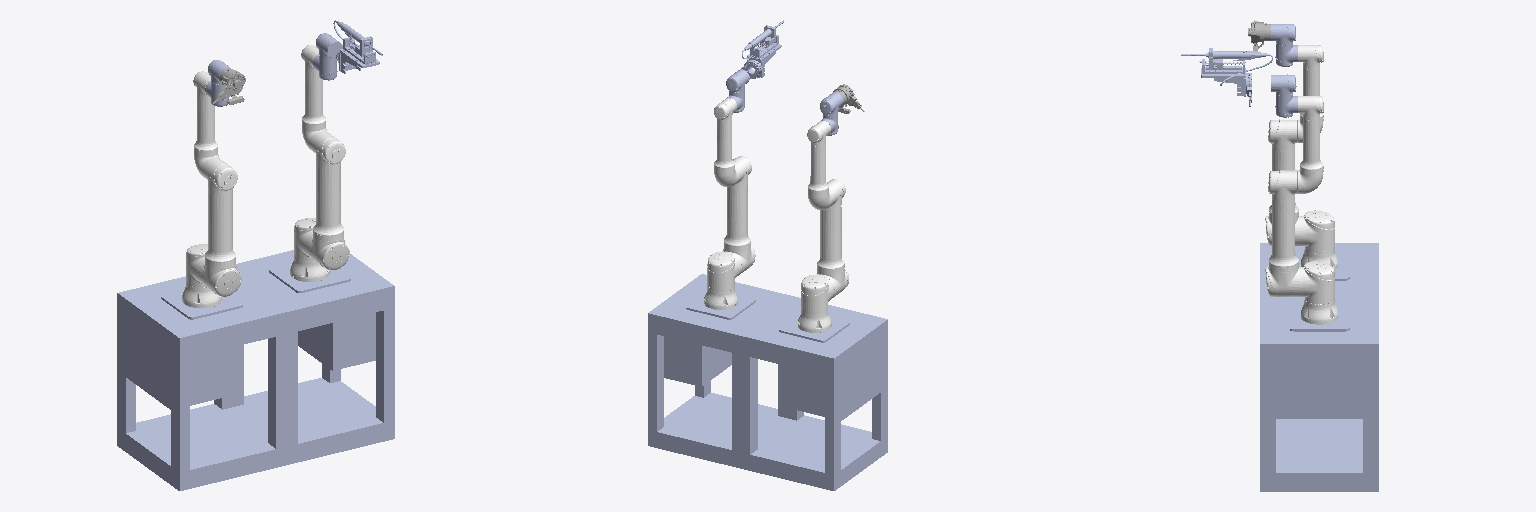
robot.urdf — dual_arm_with_electric:
<?xml version="1.0" encoding="utf-8"?>
<robot
  name="dual_arm_with_electric">
  <link
    name="base_link">
    <inertial>
      <origin
        xyz="-3.8858E-16 6.132E-05 0.48724"
        rpy="0 0 0" />
      <mass
        value="275.37" />
      <inertia
        ixx="29.428"
        ixy="-6.7312E-16"
        ixz="-2.6439E-15"
        iyy="30.097"
        iyz="-4.2543E-16"
        izz="15.99" />
    </inertial>
    <visual>
      <origin
        xyz="0 0 0"
        rpy="0 0 0" />
      <geometry>
        <mesh
          filename="package://dual_arm_with_electric/meshes/base_link.STL" />
      </geometry>
      <material
        name="">
        <color
          rgba="0.79216 0.81961 0.93333 1" />
      </material>
    </visual>
    <collision>
      <origin
        xyz="0 0 0"
        rpy="0 0 0" />
      <geometry>
        <mesh
          filename="package://dual_arm_with_electric/meshes/base_link.STL" />
      </geometry>
    </collision>
  </link>
  <link
    name="R_R00_Link">
    <inertial>
      <origin
        xyz="5.7685E-05 -0.00010433 0.065475"
        rpy="0 0 0" />
      <mass
        value="0.94896" />
      <inertia
        ixx="0.0029607"
        ixy="-1.0113E-06"
        ixz="5.2729E-06"
        iyy="0.0026222"
        iyz="-2.8851E-06"
        izz="0.0039906" />
    </inertial>
    <visual>
      <origin
        xyz="0 0 0"
        rpy="0 0 0" />
      <geometry>
        <mesh
          filename="package://dual_arm_with_electric/meshes/R_R00_Link.STL" />
      </geometry>
      <material
        name="">
        <color
          rgba="1 1 1 1" />
      </material>
    </visual>
    <collision>
      <origin
        xyz="0 0 0"
        rpy="0 0 0" />
      <geometry>
        <mesh
          filename="package://dual_arm_with_electric/meshes/R_R00_Link.STL" />
      </geometry>
    </collision>
  </link>
  <joint
    name="R_R00_Joint"
    type="fixed">
    <origin
      xyz="0.3015 0.001 0.8295"
      rpy="0 0 0" />
    <parent
      link="base_link" />
    <child
      link="R_R00_Link" />
    <axis
      xyz="0 0 0" />
  </joint>
  <link
    name="R_R01_Link">
    <inertial>
      <origin
        xyz="8.7738E-06 -0.010199 0.087734"
        rpy="0 0 0" />
      <mass
        value="3.6238" />
      <inertia
        ixx="0.011748"
        ixy="5.2402E-08"
        ixz="-5.1621E-07"
        iyy="0.010978"
        iyz="0.0014505"
        izz="0.011872" />
    </inertial>
    <visual>
      <origin
        xyz="0 0 0"
        rpy="0 0 0" />
      <geometry>
        <mesh
          filename="package://dual_arm_with_electric/meshes/R_R01_Link.STL" />
      </geometry>
      <material
        name="">
        <color
          rgba="1 1 1 1" />
      </material>
    </visual>
    <collision>
      <origin
        xyz="0 0 0"
        rpy="0 0 0" />
      <geometry>
        <mesh
          filename="package://dual_arm_with_electric/meshes/R_R01_Link.STL" />
      </geometry>
    </collision>
  </link>
  <joint
    name="R_R01_Joint"
    type="revolute">
    <origin
      xyz="0 0 0.101"
      rpy="0 0 0" />
    <parent
      link="R_R00_Link" />
    <child
      link="R_R01_Link" />
    <axis
      xyz="0 0 1" />
    <limit
      lower="-6.2832"
      upper="6.2832"
      effort="100.0"
      velocity="2.0" />
  </joint>
  <link
    name="R_R02_Link">
    <inertial>
      <origin
        xyz="-3.3956E-06 -0.090301 0.22698"
        rpy="0 0 0" />
      <mass
        value="10.025" />
      <inertia
        ixx="0.082438"
        ixy="-6.6884E-07"
        ixz="-6.9209E-08"
        iyy="0.082584"
        iyz="0.0010302"
        izz="0.023126" />
    </inertial>
    <visual>
      <origin
        xyz="0 0 0"
        rpy="0 0 0" />
      <geometry>
        <mesh
          filename="package://dual_arm_with_electric/meshes/R_R02_Link.STL" />
      </geometry>
      <material
        name="">
        <color
          rgba="1 1 1 1" />
      </material>
    </visual>
    <collision>
      <origin
        xyz="0 0 0"
        rpy="0 0 0" />
      <geometry>
        <mesh
          filename="package://dual_arm_with_electric/meshes/R_R02_Link.STL" />
      </geometry>
    </collision>
  </link>
  <joint
    name="R_R02_Joint"
    type="revolute">
    <origin
      xyz="0 -0.089 0.0915"
      rpy="0 0 0" />
    <parent
      link="R_R01_Link" />
    <child
      link="R_R02_Link" />
    <axis
      xyz="0 -1 0" />
    <limit
      lower="-6.2832"
      upper="6.2832"
      effort="100.0"
      velocity="2.0" />
  </joint>
  <link
    name="R_R03_Link">
    <inertial>
      <origin
        xyz="3.7353E-06 0.064682 0.19279"
        rpy="0 0 0" />
      <mass
        value="4.1459" />
      <inertia
        ixx="0.021426"
        ixy="-2.9841E-07"
        ixz="9.9667E-08"
        iyy="0.021"
        iyz="-0.00034616"
        izz="0.0057151" />
    </inertial>
    <visual>
      <origin
        xyz="0 0 0"
        rpy="0 0 0" />
      <geometry>
        <mesh
          filename="package://dual_arm_with_electric/meshes/R_R03_Link.STL" />
      </geometry>
      <material
        name="">
        <color
          rgba="1 1 1 1" />
      </material>
    </visual>
    <collision>
      <origin
        xyz="0 0 0"
        rpy="0 0 0" />
      <geometry>
        <mesh
          filename="package://dual_arm_with_electric/meshes/R_R03_Link.STL" />
      </geometry>
    </collision>
  </link>
  <joint
    name="R_R03_Joint"
    type="revolute">
    <origin
      xyz="0 -0.0209 0.552"
      rpy="0 0 0" />
    <parent
      link="R_R02_Link" />
    <child
      link="R_R03_Link" />
    <axis
      xyz="0 1 0" />
    <limit
      lower="-6.2832"
      upper="6.2832"
      effort="100.0"
      velocity="2.0" />
  </joint>
  <link
    name="R_R04_Link">
    <inertial>
      <origin
        xyz="-2.9867E-06 -0.059008 0.0041121"
        rpy="0 0 0" />
      <mass
        value="0.94334" />
      <inertia
        ixx="0.0014296"
        ixy="3.0514E-08"
        ixz="-4.9833E-08"
        iyy="0.0011354"
        iyz="0.00019671"
        izz="0.0012242" />
    </inertial>
    <visual>
      <origin
        xyz="0 0 0"
        rpy="0 0 0" />
      <geometry>
        <mesh
          filename="package://dual_arm_with_electric/meshes/R_R04_Link.STL" />
      </geometry>
      <material
        name="">
        <color
          rgba="0.79216 0.81961 0.93333 1" />
      </material>
    </visual>
    <collision>
      <origin
        xyz="0 0 0"
        rpy="0 0 0" />
      <geometry>
        <mesh
          filename="package://dual_arm_with_electric/meshes/R_R04_Link.STL" />
      </geometry>
    </collision>
  </link>
  <joint
    name="R_R04_Joint"
    type="revolute">
    <origin
      xyz="0 0.0031 0.43"
      rpy="0 0 0" />
    <parent
      link="R_R03_Link" />
    <child
      link="R_R04_Link" />
    <axis
      xyz="0 1 0" />
    <limit
      lower="-6.2832"
      upper="6.2832"
      effort="100.0"
      velocity="2.0" />
  </joint>
  <link
    name="R_R05_Link">
    <inertial>
      <origin
        xyz="4.8544E-06 -0.0047046 0.046075"
        rpy="0 0 0" />
      <mass
        value="0.82449" />
      <inertia
        ixx="0.0010544"
        ixy="-7.6266E-08"
        ixz="3.7967E-08"
        iyy="0.00086962"
        iyz="0.00011863"
        izz="0.0010023" />
    </inertial>
    <visual>
      <origin
        xyz="0 0 0"
        rpy="0 0 0" />
      <geometry>
        <mesh
          filename="package://dual_arm_with_electric/meshes/R_R05_Link.STL" />
      </geometry>
      <material
        name="">
        <color
          rgba="0.79216 0.81961 0.93333 1" />
      </material>
    </visual>
    <collision>
      <origin
        xyz="0 0 0"
        rpy="0 0 0" />
      <geometry>
        <mesh
          filename="package://dual_arm_with_electric/meshes/R_R05_Link.STL" />
      </geometry>
    </collision>
  </link>
  <joint
    name="R_R05_Joint"
    type="revolute">
    <origin
      xyz="0 -0.0707 0.0673"
      rpy="0 0 0" />
    <parent
      link="R_R04_Link" />
    <child
      link="R_R05_Link" />
    <axis
      xyz="0 0 -1" />
    <limit
      lower="-6.2832"
      upper="6.2832"
      effort="100.0"
      velocity="2.0" />
  </joint>
  <link
    name="R_R06_Link">
    <inertial>
      <origin
        xyz="-0.0002141 -0.061538 -0.026956"
        rpy="0 0 0" />
      <mass
        value="1.6652" />
      <inertia
        ixx="0.00080037"
        ixy="-2.9449E-06"
        ixz="2.3339E-06"
        iyy="0.0014906"
        iyz="-4.2122E-06"
        izz="0.00093729" />
    </inertial>
    <visual>
      <origin
        xyz="0 0 0"
        rpy="0 0 0" />
      <geometry>
        <mesh
          filename="package://dual_arm_with_electric/meshes/R_R06_Link.STL" />
      </geometry>
      <material
        name="">
        <color
          rgba="0.75294 0.75294 0.75294 1" />
      </material>
    </visual>
    <collision>
      <origin
        xyz="0 0 0"
        rpy="0 0 0" />
      <geometry>
        <mesh
          filename="package://dual_arm_with_electric/meshes/R_R06_Link.STL" />
      </geometry>
    </collision>
  </link>
  <joint
    name="R_R06_Joint"
    type="revolute">
    <origin
      xyz="0 -0.0673 0.0507"
      rpy="0 0 0" />
    <parent
      link="R_R05_Link" />
    <child
      link="R_R06_Link" />
    <axis
      xyz="0 1 0" />
    <limit
      lower="-6.2832"
      upper="6.2832"
      effort="100.0"
      velocity="2.0" />
  </joint>
  <link
    name="L_R00_Link">
    <inertial>
      <origin
        xyz="-5.7685E-05 0.00010433 0.065475"
        rpy="0 0 0" />
      <mass
        value="0.94896" />
      <inertia
        ixx="0.0029607"
        ixy="-1.0113E-06"
        ixz="-5.2729E-06"
        iyy="0.0026222"
        iyz="2.8851E-06"
        izz="0.0039906" />
    </inertial>
    <visual>
      <origin
        xyz="0 0 0"
        rpy="0 0 0" />
      <geometry>
        <mesh
          filename="package://dual_arm_with_electric/meshes/L_R00_Link.STL" />
      </geometry>
      <material
        name="">
        <color
          rgba="1 1 1 1" />
      </material>
    </visual>
    <collision>
      <origin
        xyz="0 0 0"
        rpy="0 0 0" />
      <geometry>
        <mesh
          filename="package://dual_arm_with_electric/meshes/L_R00_Link.STL" />
      </geometry>
    </collision>
  </link>
  <joint
    name="L_R00_Joint"
    type="fixed">
    <origin
      xyz="-0.3015 0.001 0.8295"
      rpy="0 0 0" />
    <parent
      link="base_link" />
    <child
      link="L_R00_Link" />
    <axis
      xyz="0 0 0" />
  </joint>
  <link
    name="L_R01_Link">
    <inertial>
      <origin
        xyz="8.7722E-06 -0.010199 0.087734"
        rpy="0 0 0" />
      <mass
        value="3.6238" />
      <inertia
        ixx="0.011748"
        ixy="5.2386E-08"
        ixz="-5.1621E-07"
        iyy="0.010978"
        iyz="0.0014505"
        izz="0.011872" />
    </inertial>
    <visual>
      <origin
        xyz="0 0 0"
        rpy="0 0 0" />
      <geometry>
        <mesh
          filename="package://dual_arm_with_electric/meshes/L_R01_Link.STL" />
      </geometry>
      <material
        name="">
        <color
          rgba="1 1 1 1" />
      </material>
    </visual>
    <collision>
      <origin
        xyz="0 0 0"
        rpy="0 0 0" />
      <geometry>
        <mesh
          filename="package://dual_arm_with_electric/meshes/L_R01_Link.STL" />
      </geometry>
    </collision>
  </link>
  <joint
    name="L_R01_Joint"
    type="revolute">
    <origin
      xyz="0 0 0.101"
      rpy="0 0 0" />
    <parent
      link="L_R00_Link" />
    <child
      link="L_R01_Link" />
    <axis
      xyz="0 0 1" />
    <limit
      lower="-6.2832"
      upper="6.2832"
      effort="100.0"
      velocity="2.0" />
  </joint>
  <link
    name="L_R02_Link">
    <inertial>
      <origin
        xyz="-3.3951E-06 -0.090301 0.22698"
        rpy="0 0 0" />
      <mass
        value="10.025" />
      <inertia
        ixx="0.082438"
        ixy="-6.6879E-07"
        ixz="-6.8997E-08"
        iyy="0.082584"
        iyz="0.0010302"
        izz="0.023126" />
    </inertial>
    <visual>
      <origin
        xyz="0 0 0"
        rpy="0 0 0" />
      <geometry>
        <mesh
          filename="package://dual_arm_with_electric/meshes/L_R02_Link.STL" />
      </geometry>
      <material
        name="">
        <color
          rgba="1 1 1 1" />
      </material>
    </visual>
    <collision>
      <origin
        xyz="0 0 0"
        rpy="0 0 0" />
      <geometry>
        <mesh
          filename="package://dual_arm_with_electric/meshes/L_R02_Link.STL" />
      </geometry>
    </collision>
  </link>
  <joint
    name="L_R02_Joint"
    type="revolute">
    <origin
      xyz="0 -0.089 0.0915"
      rpy="0 0 0" />
    <parent
      link="L_R01_Link" />
    <child
      link="L_R02_Link" />
    <axis
      xyz="0 -1 0" />
    <limit
      lower="-6.2832"
      upper="6.2832"
      effort="100.0"
      velocity="2.0" />
  </joint>
  <link
    name="L_R03_Link">
    <inertial>
      <origin
        xyz="3.7356E-06 0.064682 0.19279"
        rpy="0 0 0" />
      <mass
        value="4.1459" />
      <inertia
        ixx="0.021426"
        ixy="-2.9841E-07"
        ixz="9.9664E-08"
        iyy="0.021"
        iyz="-0.00034616"
        izz="0.0057151" />
    </inertial>
    <visual>
      <origin
        xyz="0 0 0"
        rpy="0 0 0" />
      <geometry>
        <mesh
          filename="package://dual_arm_with_electric/meshes/L_R03_Link.STL" />
      </geometry>
      <material
        name="">
        <color
          rgba="1 1 1 1" />
      </material>
    </visual>
    <collision>
      <origin
        xyz="0 0 0"
        rpy="0 0 0" />
      <geometry>
        <mesh
          filename="package://dual_arm_with_electric/meshes/L_R03_Link.STL" />
      </geometry>
    </collision>
  </link>
  <joint
    name="L_R03_Joint"
    type="revolute">
    <origin
      xyz="0 -0.0209 0.552"
      rpy="0 0 0" />
    <parent
      link="L_R02_Link" />
    <child
      link="L_R03_Link" />
    <axis
      xyz="0 1 0" />
    <limit
      lower="-6.2832"
      upper="6.2832"
      effort="100.0"
      velocity="2.0" />
  </joint>
  <link
    name="L_R04_Link">
    <inertial>
      <origin
        xyz="-2.9854E-06 -0.059008 0.0041121"
        rpy="0 0 0" />
      <mass
        value="0.94334" />
      <inertia
        ixx="0.0014296"
        ixy="3.0491E-08"
        ixz="-4.9808E-08"
        iyy="0.0011354"
        iyz="0.00019671"
        izz="0.0012242" />
    </inertial>
    <visual>
      <origin
        xyz="0 0 0"
        rpy="0 0 0" />
      <geometry>
        <mesh
          filename="package://dual_arm_with_electric/meshes/L_R04_Link.STL" />
      </geometry>
      <material
        name="">
        <color
          rgba="0.79216 0.81961 0.93333 1" />
      </material>
    </visual>
    <collision>
      <origin
        xyz="0 0 0"
        rpy="0 0 0" />
      <geometry>
        <mesh
          filename="package://dual_arm_with_electric/meshes/L_R04_Link.STL" />
      </geometry>
    </collision>
  </link>
  <joint
    name="L_R04_Joint"
    type="revolute">
    <origin
      xyz="0 0.0031 0.43"
      rpy="0 0 0" />
    <parent
      link="L_R03_Link" />
    <child
      link="L_R04_Link" />
    <axis
      xyz="0 1 0" />
    <limit
      lower="-6.2832"
      upper="6.2832"
      effort="100.0"
      velocity="2.0" />
  </joint>
  <link
    name="L_R05_Link">
    <inertial>
      <origin
        xyz="-5.4904E-05 -0.0047043 0.046075"
        rpy="0 0 0" />
      <mass
        value="0.82449" />
      <inertia
        ixx="0.0010543"
        ixy="-2.4228E-06"
        ixz="1.5451E-06"
        iyy="0.00086965"
        iyz="0.00011862"
        izz="0.0010023" />
    </inertial>
    <visual>
      <origin
        xyz="0 0 0"
        rpy="0 0 0" />
      <geometry>
        <mesh
          filename="package://dual_arm_with_electric/meshes/L_R05_Link.STL" />
      </geometry>
      <material
        name="">
        <color
          rgba="0.79216 0.81961 0.93333 1" />
      </material>
    </visual>
    <collision>
      <origin
        xyz="0 0 0"
        rpy="0 0 0" />
      <geometry>
        <mesh
          filename="package://dual_arm_with_electric/meshes/L_R05_Link.STL" />
      </geometry>
    </collision>
  </link>
  <joint
    name="L_R05_Joint"
    type="revolute">
    <origin
      xyz="0 -0.0707 0.0673"
      rpy="0 0 0" />
    <parent
      link="L_R04_Link" />
    <child
      link="L_R05_Link" />
    <axis
      xyz="0 0 -1" />
    <limit
      lower="-6.2832"
      upper="6.2832"
      effort="100.0"
      velocity="2.0" />
  </joint>
  <link
    name="L_R06_Link">
    <inertial>
      <origin
        xyz="-0.002204 -0.061333 -0.025591"
        rpy="0 0 0" />
      <mass
        value="1.6639" />
      <inertia
        ixx="0.00078855"
        ixy="6.8494E-06"
        ixz="-1.8668E-06"
        iyy="0.0014753"
        iyz="-4.5567E-06"
        izz="0.00093201" />
    </inertial>
    <visual>
      <origin
        xyz="0 0 0"
        rpy="0 0 0" />
      <geometry>
        <mesh
          filename="package://dual_arm_with_electric/meshes/L_R06_Link.STL" />
      </geometry>
      <material
        name="">
        <color
          rgba="0.75294 0.75294 0.75294 1" />
      </material>
    </visual>
    <collision>
      <origin
        xyz="0 0 0"
        rpy="0 0 0" />
      <geometry>
        <mesh
          filename="package://dual_arm_with_electric/meshes/L_R06_Link.STL" />
      </geometry>
    </collision>
  </link>
  <joint
    name="L_R06_Joint"
    type="revolute">
    <origin
      xyz="-0.00085495 -0.067295 0.0507"
      rpy="0 0 0" />
    <parent
      link="L_R05_Link" />
    <child
      link="L_R06_Link" />
    <axis
      xyz="0.012704 0.99992 0" />
    <limit
      lower="-6.2832"
      upper="6.2832"
      effort="100.0"
      velocity="2.0" />
  </joint>

  <link
    name="electric_driver_link">
    <inertial>
      <origin
        xyz="0.035503 0.0010314 -0.10003"
        rpy="0 0 0" />
      <mass
        value="1.6206" />
      <inertia
        ixx="0.0045739"
        ixy="-4.5256E-06"
        ixz="0.00018119"
        iyy="0.0042596"
        iyz="-2.1579E-07"
        izz="0.0016071" />
    </inertial>
    <visual>
      <origin
        xyz="0 0 0"
        rpy="0 0 0" />
      <geometry>
        <mesh
          filename="package://dual_arm_with_electric/meshes/electric_driver_link.STL" />
      </geometry>
      <material
        name="">
        <color
          rgba="0.79216 0.81961 0.93333 1" />
      </material>
    </visual>
    <collision>
      <origin
        xyz="0 0 0"
        rpy="0 0 0" />
      <geometry>
        <mesh
          filename="package://dual_arm_with_electric/meshes/electric_driver_link.STL" />
      </geometry>
    </collision>
  </link>

  <!-- 修改后的关节: 从fixed改为continuous,使electric_driver_link成为独立的link -->
  <joint
    name="R_driver_joint"
    type="continuous">
    <origin
      xyz="0 -0.095 0"
      rpy="0 -1.5707 -1.5707" />
    <parent
      link="R_R06_Link" />
    <child
      link="electric_driver_link" />
    <axis
      xyz="0 0 1" />
    <limit
      effort="0.0"
      velocity="0.0" />
  </joint>

</robot>

--- Facts derived from the render (not from the file) ---
Views: 3 orthographic renders of the robot side by side, from view 1: azimuth 30°, elevation 25°; view 2: azimuth 150°, elevation 25°; view 3: azimuth 270°, elevation 25°.
Model dual_arm_with_electric with 16 links and 15 joints (12 revolute, 1 continuous, 2 fixed), rooted at base_link, posed every joint at zero.
Links seen in each view (by area): view 1: base_link, R_R02_Link, L_R02_Link, R_R03_Link, L_R03_Link, electric_driver_link, L_R06_Link, R_R00_Link, L_R00_Link, L_R01_Link, R_R01_Link; view 2: base_link, L_R02_Link, R_R02_Link, L_R03_Link, R_R03_Link, electric_driver_link, R_R01_Link, L_R01_Link, R_R00_Link, L_R00_Link; view 3: base_link, R_R02_Link, R_R03_Link, L_R02_Link, electric_driver_link, R_R01_Link, L_R01_Link, L_R03_Link, R_R00_Link.
Link boxes in pixels (x1,y1,x2,y2): base_link: (117,250,394,490); R_R02_Link: (306,131,349,269); L_R02_Link: (198,158,241,296); R_R03_Link: (301,45,326,151); L_R03_Link: (193,71,219,177); electric_driver_link: (333,20,382,73); L_R06_Link: (213,68,245,104); R_R00_Link: (290,256,329,281); L_R00_Link: (182,282,221,307); L_R01_Link: (186,244,207,287); R_R01_Link: (294,218,315,260); base_link: (648,274,887,490); L_R02_Link: (817,179,848,297); R_R02_Link: (723,156,755,275); L_R03_Link: (807,121,833,209); R_R03_Link: (714,98,739,186); electric_driver_link: (741,20,783,78); R_R01_Link: (707,251,740,291); L_R01_Link: (801,274,833,314); R_R00_Link: (704,287,737,309); L_R00_Link: (798,311,831,332); base_link: (1260,243,1378,491); R_R02_Link: (1265,170,1301,296); R_R03_Link: (1298,96,1323,193); L_R02_Link: (1265,119,1301,245); electric_driver_link: (1181,48,1272,106); R_R01_Link: (1302,261,1334,304); L_R01_Link: (1302,210,1334,253); L_R03_Link: (1298,45,1323,142); R_R00_Link: (1301,299,1337,324).
Bounding box of the posed robot: 1.2 × 0.9959 × 2.31 m (x, y, z).
15 mesh visuals loaded from 16 distinct referenced files (15 binary STL); not drawn: 1 (reference not matched to a file when rendering).
